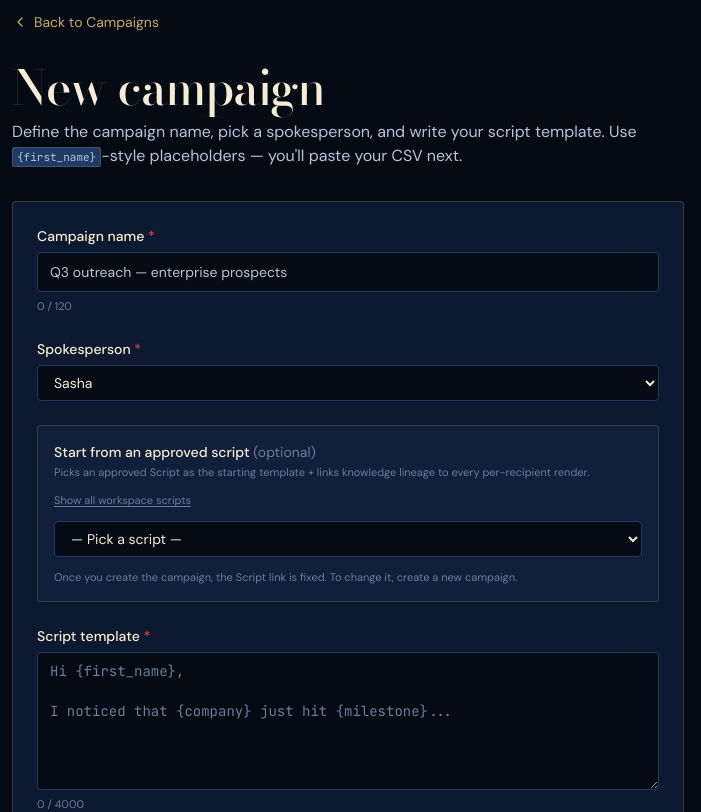
it: CampaignNewRoute BC4 — Script picker › picking a script renders the preview card
The image size is (701, 812).
Select "Five Good Emperors (Sasha)" in the dropdown with test id "script-picker-select" at (348, 538), box [54,520,642,556]
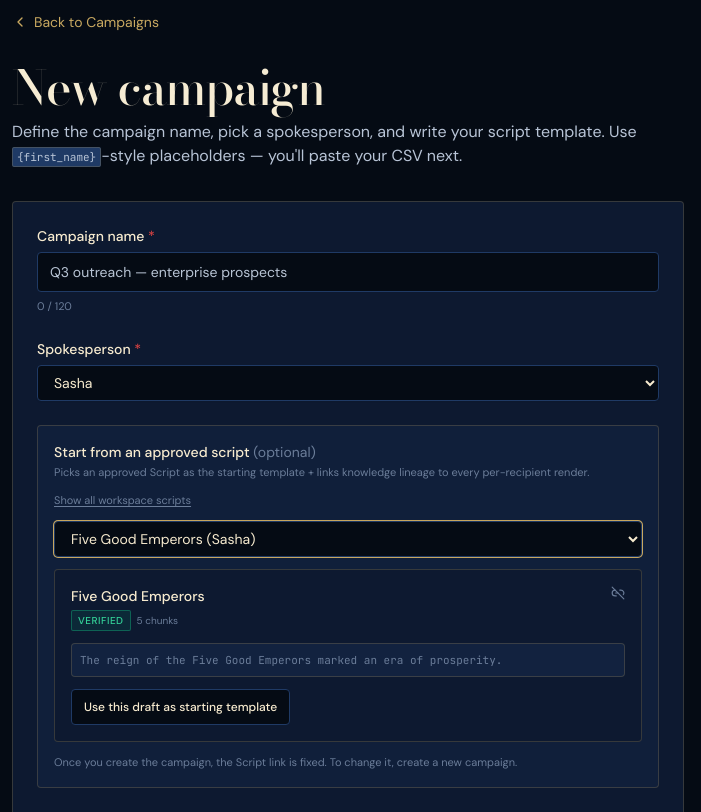
Now the element with test id "script-preview-card-sc-00000000-0000-0000-0000-000000000001" is shown, box [54,568,642,742]
Now the text with test id "script-preview-name" reads "Five Good Emperors", box [71,586,205,604]
